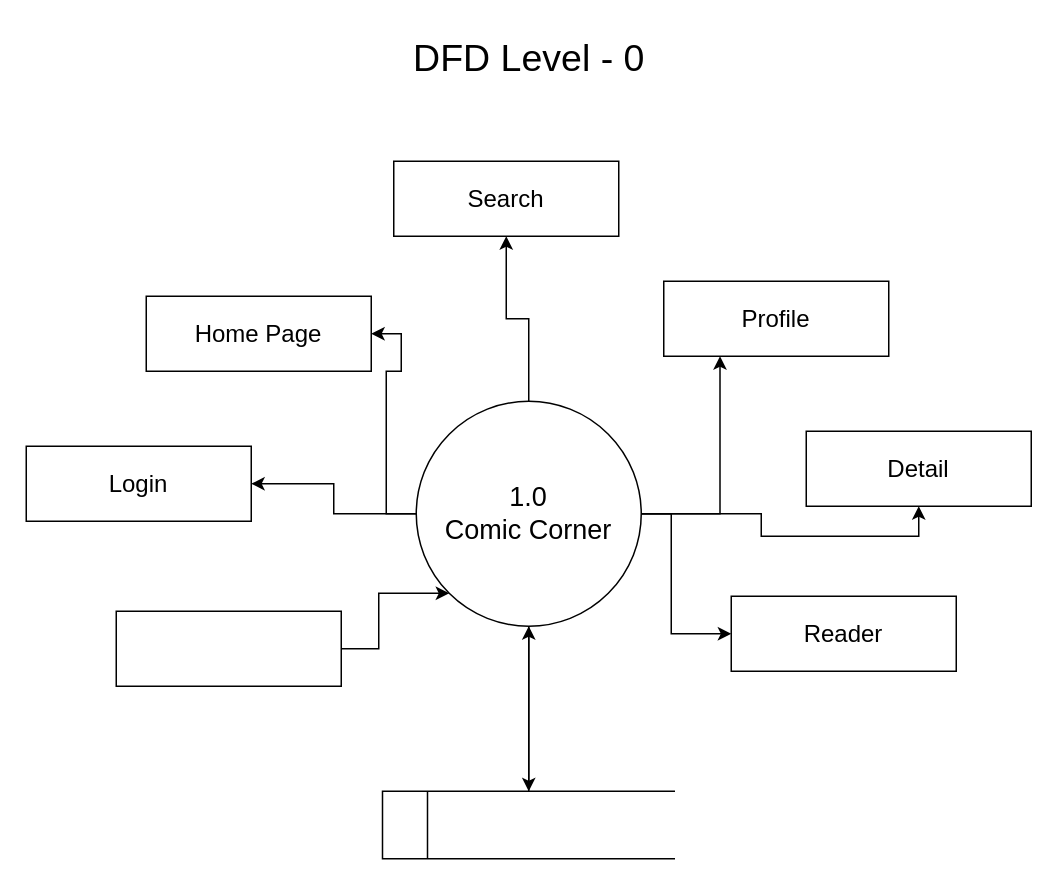
Some shapes in this 1058 by 885 pixel diagram are drawn without their labels. Each missing label, with the box of its shape:
Comic Corner: (381, 790, 675, 859)
Signup: (115, 610, 341, 686)
